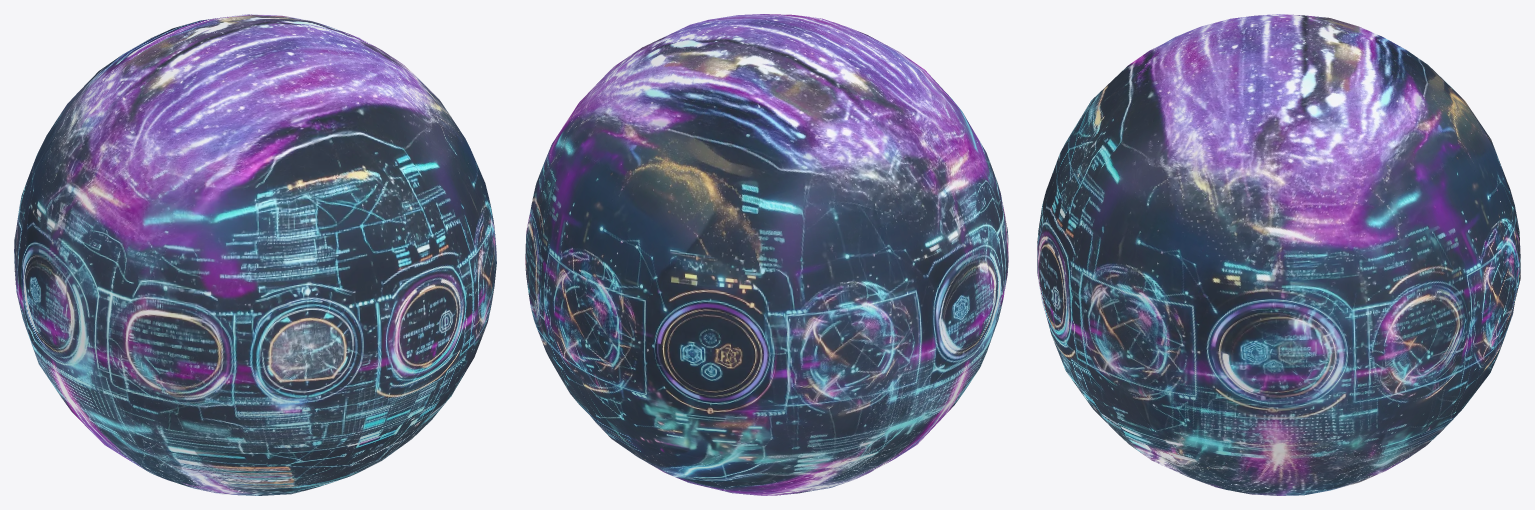
Rendered from note_main.glb.
3 renders of one model, left to right at view 1: azimuth 30°, elevation 25°; view 2: azimuth 150°, elevation 25°; view 3: azimuth 270°, elevation 25°, orthographic.
Size of the model in its own units: 1 by 1 by 1.
Materials: 1 (1 with a texture image).
